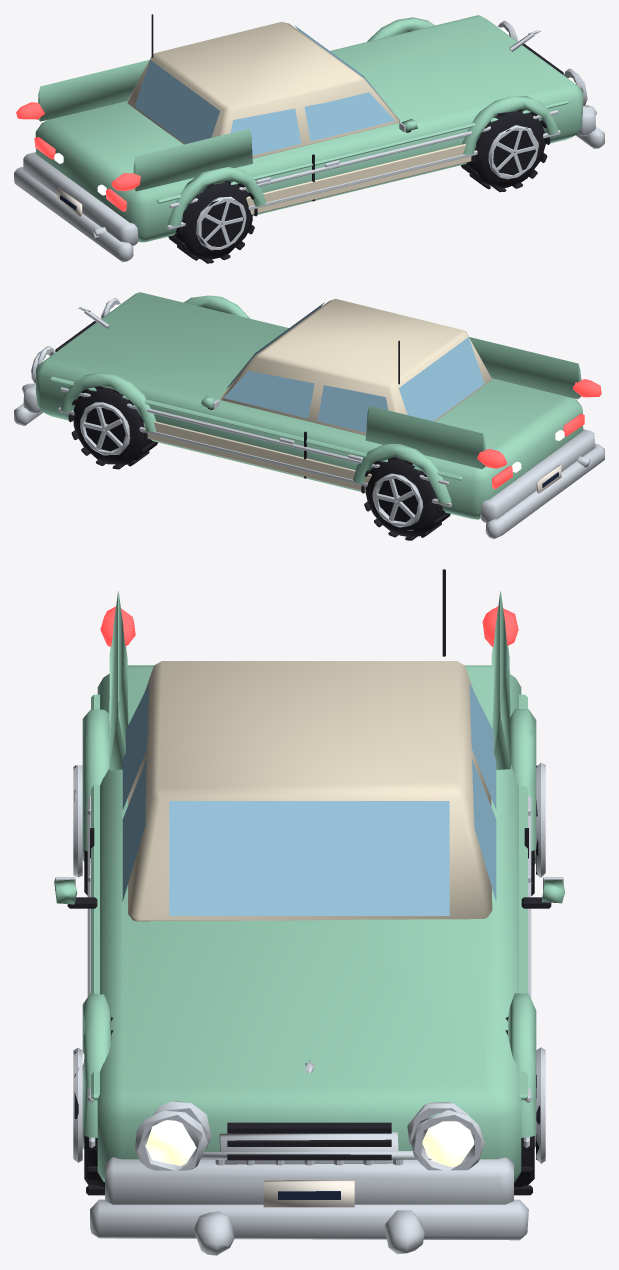
Rendered from classic_car.glb.
The picture shows the model from 3 angles, top to bottom: view 1: azimuth 30°, elevation 25°; view 2: azimuth 150°, elevation 25°; view 3: azimuth 270°, elevation 25°; orthographic projection. The views are drawn at different scales.
Parts seen in each view (by area): view 1: classic_car; view 2: classic_car; view 3: classic_car.
Boxes of the visible parts, box(x1,y1,x2,y2) form: classic_car: box(14, 14, 604, 263); classic_car: box(14, 292, 604, 540); classic_car: box(54, 569, 564, 1255).
Bounding box in the file's own units: 5.57 × 1.84 × 2.42.
1 material, 1 textured.
